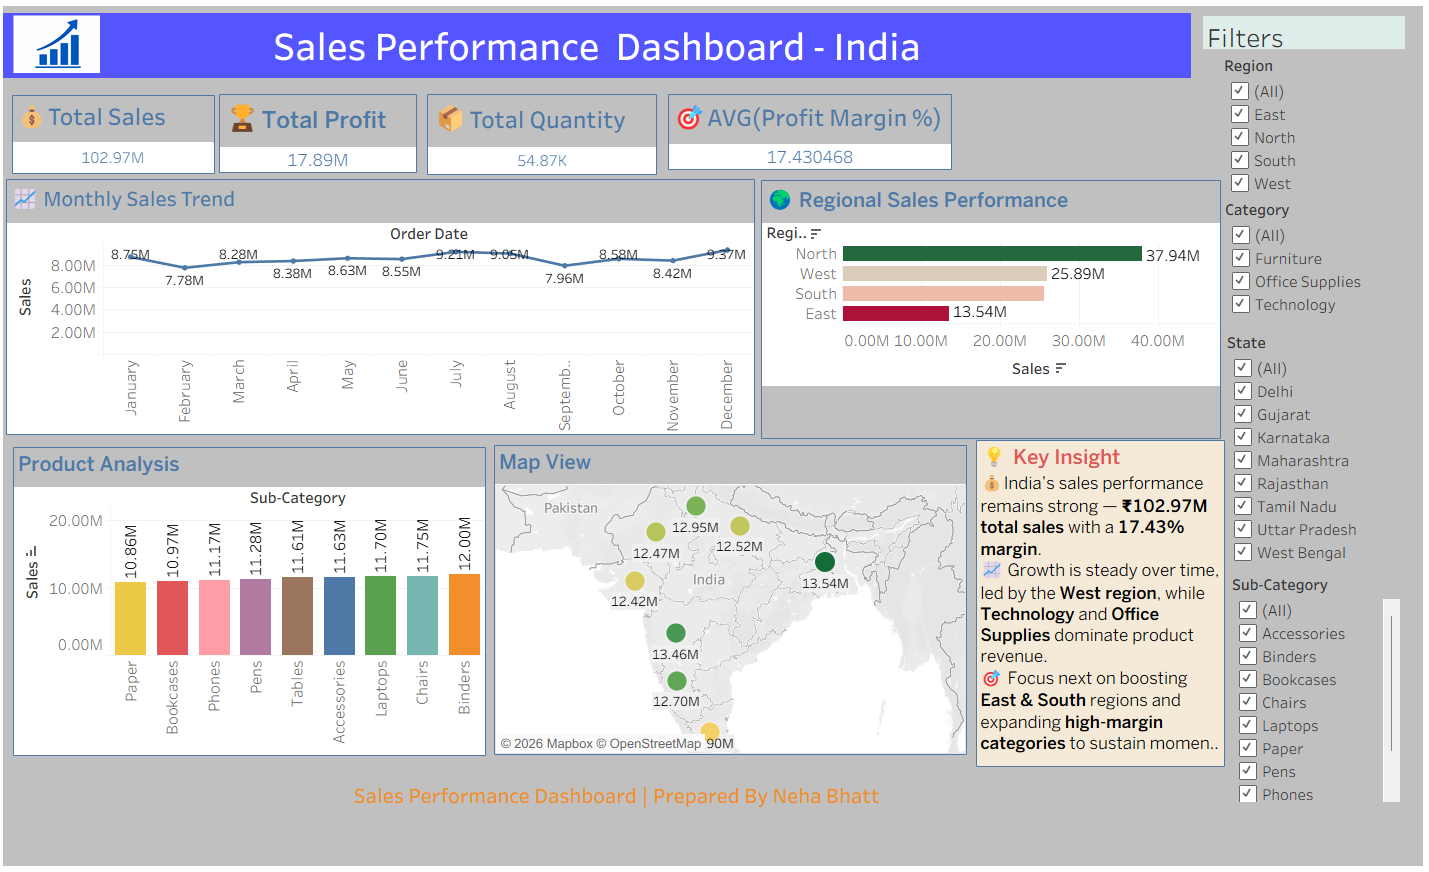

The page's visual inventory and layout, read from the dashboard file:
{"tool":"tableau","page":{"name":"Sales Performance Dashboard","canvas":[1000,1000],"units":"permille","ordinal":0},"visuals":[{"type":"text","box":[0,8.1,836.6,75.6]},{"type":"image","param":"Image/sales growth.png","box":[7,10.5,62,67.4]},{"type":"worksheet","title":"Filters","mark":"Automatic","box":[845.1,11.6,142.2,38.4]},{"type":"filter","title":"Filters","param":"[federated.0k9mkj30ymc77x1dafly804ic2y2].[none:Region:nk]","box":[859.9,57,118.3,181.4]},{"type":"worksheet","title":"Total Profit","mark":"Automatic","box":[152.1,102.3,139.4,91.9]},{"type":"worksheet","title":"Total Quantity","mark":"Automatic","box":[298.6,102.3,162,94.2]},{"type":"worksheet","title":"Profit Margin","mark":"Automatic","box":[468.3,102.3,200,88.4]},{"type":"worksheet","title":"TOtal sales","mark":"Automatic","box":[6.3,103.5,143,91.9]},{"type":"worksheet","title":"Sales Trend Over Time","mark":"Line","rows":["Sales"],"cols":["Order Date"],"box":[2.1,201.2,527.5,297.7]},{"type":"worksheet","title":"Region Performance","mark":"Automatic","rows":["Region"],"cols":["Sales"],"box":[533.8,202.3,323.9,301.2]},{"type":"filter","title":"Filters","param":"[federated.0k9mkj30ymc77x1dafly804ic2y2].[none:Category:nk]","box":[860.6,224.4,118.3,148.8]},{"type":"filter","title":"Filters","param":"[federated.0k9mkj30ymc77x1dafly804ic2y2].[none:State:nk]","box":[862,379.1,118.3,282.6]},{"type":"text","box":[685.2,504.7,175.3,380.2]},{"type":"worksheet","title":"Map View","mark":"Automatic","box":[345.8,510.5,333.1,360.5]},{"type":"worksheet","title":"Product Analysis","mark":"Automatic","rows":["Sales"],"cols":["Sub-Category"],"box":[7,512.8,333.1,359.3]},{"type":"filter","title":"Filters","param":"[federated.0k9mkj30ymc77x1dafly804ic2y2].[none:Sub-Category:nk]","box":[865.5,660.5,118.3,265.1]},{"type":"text","box":[3.5,887.2,857.8,60.5]}]}

Visuals, with their boxes on the dashboard's canvas, which has no fixed pixel size, in thousandths of its width and height (x1, y1, x2, y2). These are canvas units, not pixel positions in the 1429x872 screenshot, which may show the page scaled, cropped or inside an application window:
text: [0, 8, 837, 84]
image: [7, 10, 69, 78]
"Filters" worksheet: [845, 12, 987, 50]
"Filters" filter: [860, 57, 978, 238]
"Total Profit" worksheet: [152, 102, 292, 194]
"Total Quantity" worksheet: [299, 102, 461, 196]
"Profit Margin" worksheet: [468, 102, 668, 191]
"TOtal sales" worksheet: [6, 104, 149, 195]
"Sales Trend Over Time" worksheet (Line marks): [2, 201, 530, 499]
"Region Performance" worksheet: [534, 202, 858, 504]
"Filters" filter: [861, 224, 979, 373]
"Filters" filter: [862, 379, 980, 662]
text: [685, 505, 860, 885]
"Map View" worksheet: [346, 510, 679, 871]
"Product Analysis" worksheet: [7, 513, 340, 872]
"Filters" filter: [866, 660, 984, 926]
text: [4, 887, 861, 948]
